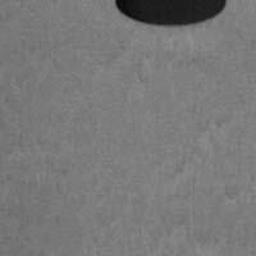Punching: (114, 0, 228, 28)
